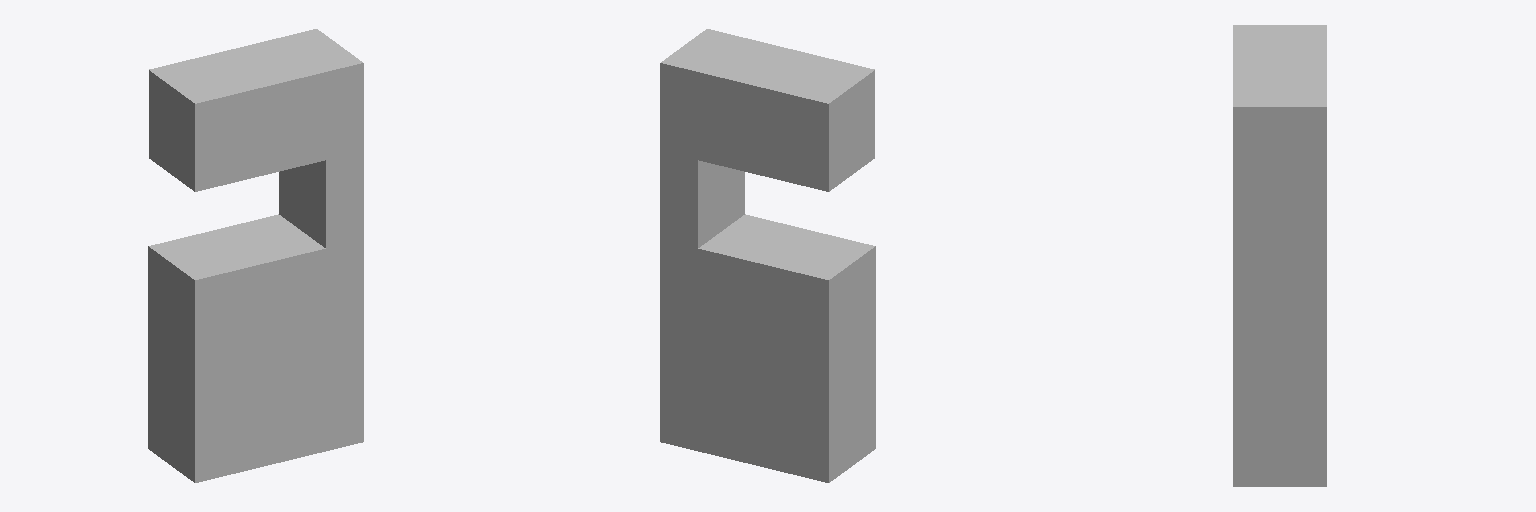
File: Tanke.obj
The picture shows the model from 3 angles: view 1: azimuth 30°, elevation 25°; view 2: azimuth 150°, elevation 25°; view 3: azimuth 270°, elevation 25°; orthographic projection.
Size of the model in its own units: 2 by 4.3 by 0.96.